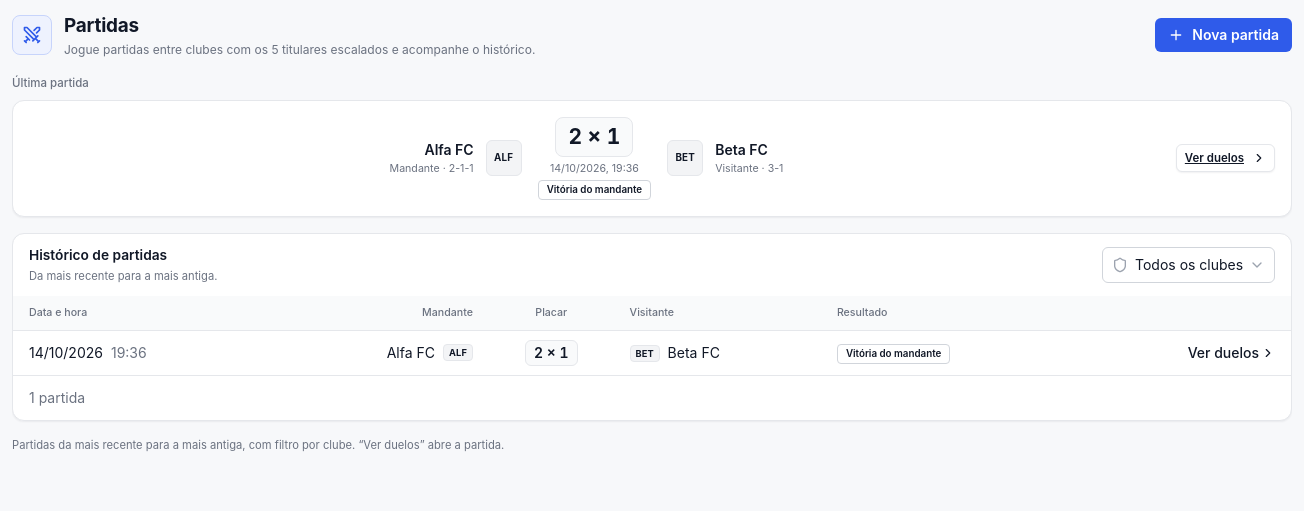
Test case: MatchesPage history › shows the empty state of a club without matches
Expected: the text "2 × 1" below "Placar" is shown, x1=534 y1=344 x2=569 y2=361
Select "Beta FC (BET)" in the dropdown named "Filtrar por clube": coordinates (1188, 265) x1=1102 y1=247 x2=1275 y2=283
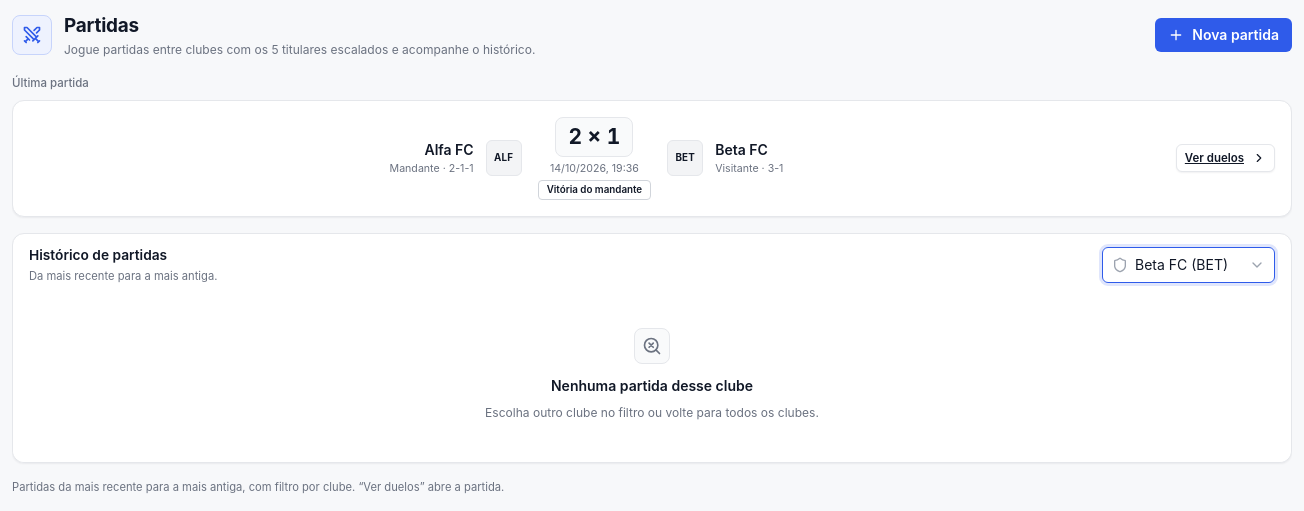
Now the text "Nenhuma partida desse clube" is shown, box x1=551 y1=376 x2=753 y2=396
